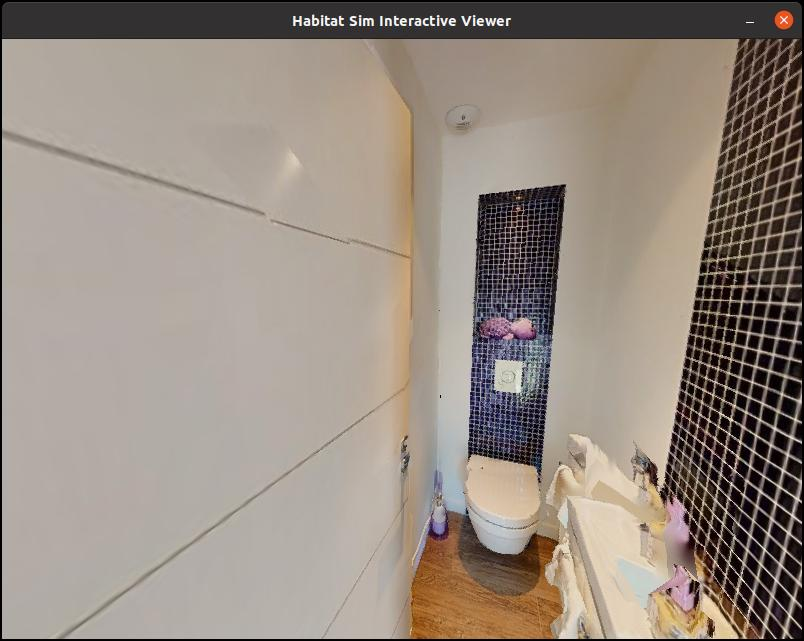toilet: (452, 442, 555, 572)
